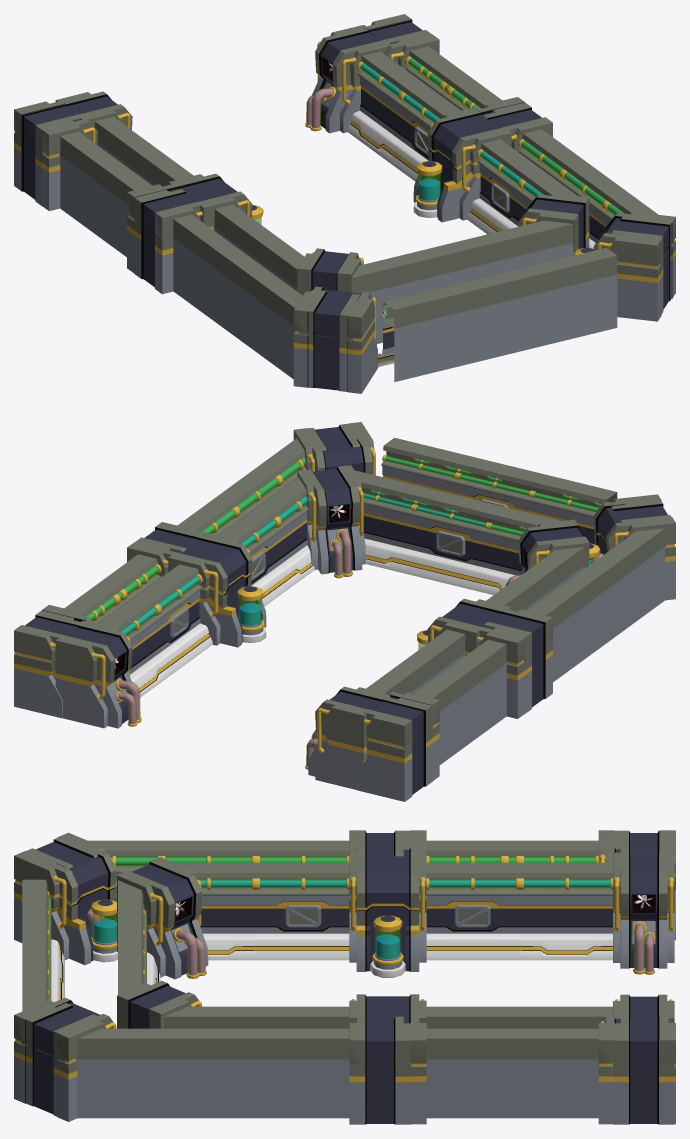
File: Level1.fbx
3 renders of one model, top to bottom at view 1: azimuth 30°, elevation 25°; view 2: azimuth 150°, elevation 25°; view 3: azimuth 270°, elevation 25°, orthographic. The views are drawn at different scales.
Parts seen in each view (by area): view 1: Base (×43), Bottle, Pipe1; view 2: Base (×44), Bottle, Cage; view 3: Base (×44), Pipe1 (×14), Bottle (×2), Cage (×2).
Part boxes in pixels (x1,y1,x2,y2): Base (×43): [14, 14, 675, 393]; Bottle: [413, 161, 442, 217]; Pipe1: [310, 87, 335, 131]; Base (×44): [14, 422, 675, 801]; Bottle: [237, 586, 266, 642]; Cage: [436, 530, 465, 556]; Base (×44): [14, 830, 675, 1124]; Pipe1 (×14): [162, 856, 646, 978]; Bottle (×2): [91, 899, 405, 977]; Cage (×2): [285, 905, 490, 927].
Bounding box in the file's own units: 385 × 73.12 × 513.
